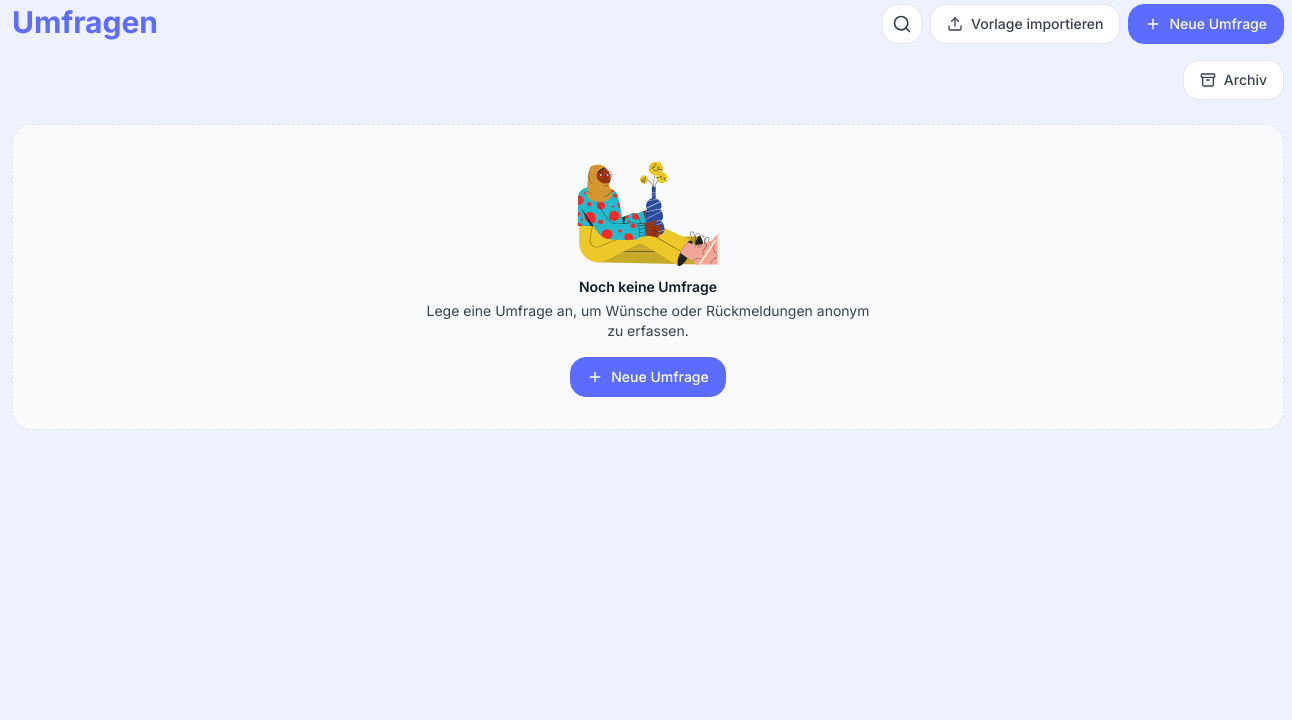
Test: Surveys archive navigation › returns to the overview and shows the restored survey after restoring the last item
Click the button "Archiv". click: [1233, 80]
box: [1183, 60, 1284, 100]
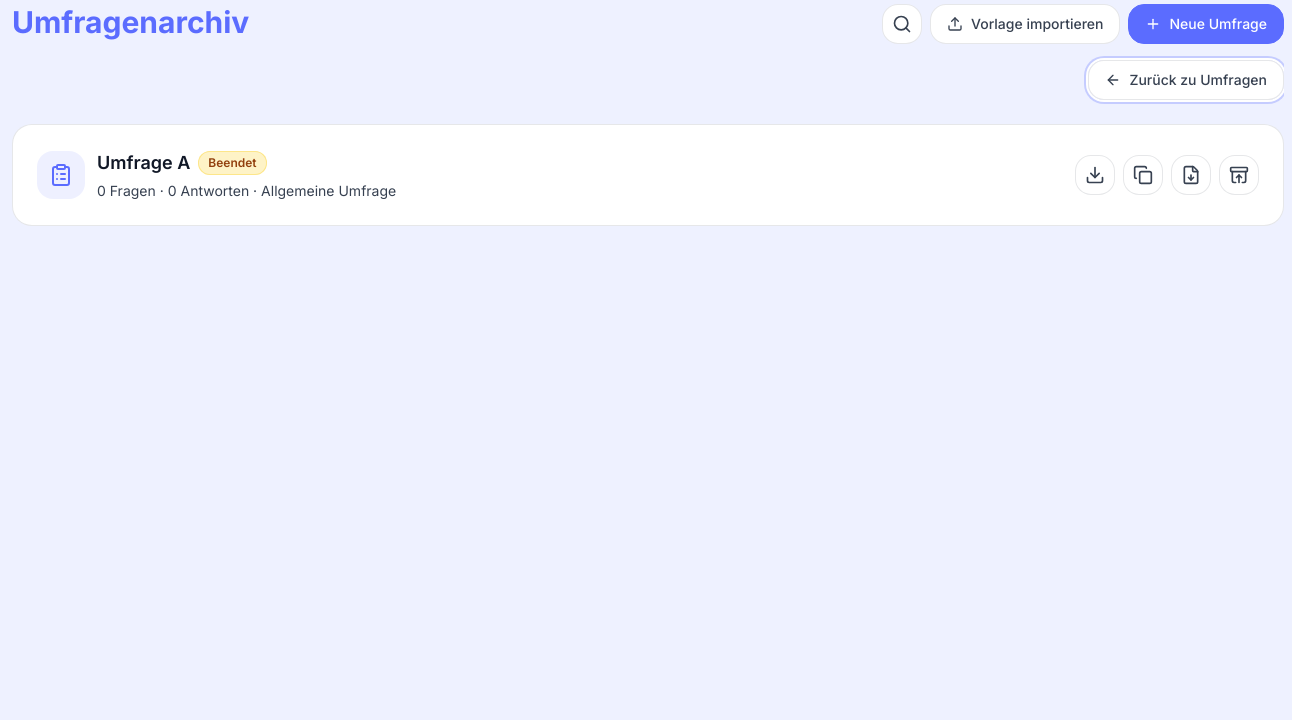
Click the button named "Wiederherstellen". click: [1239, 175]
box: [1219, 155, 1259, 195]
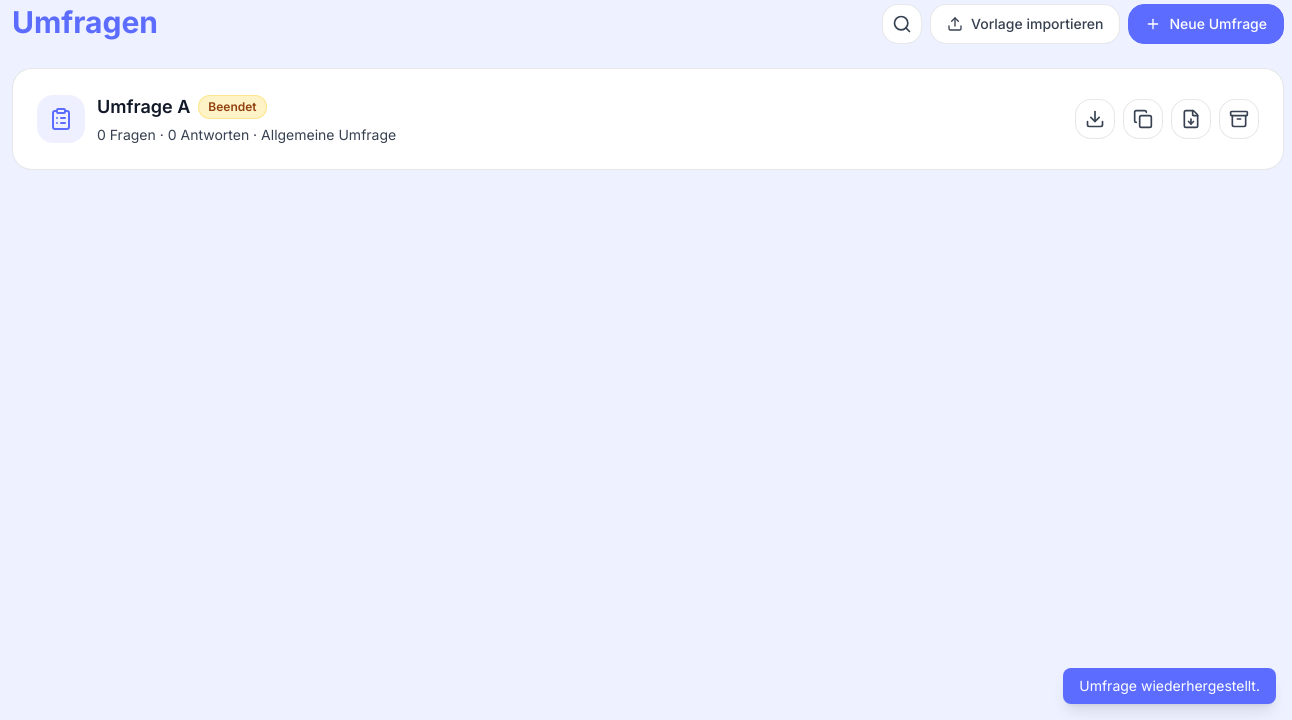
Expected: the heading "Umfragen" is shown, [12, 4, 158, 40]
Expected: the heading "archiv" is gone
